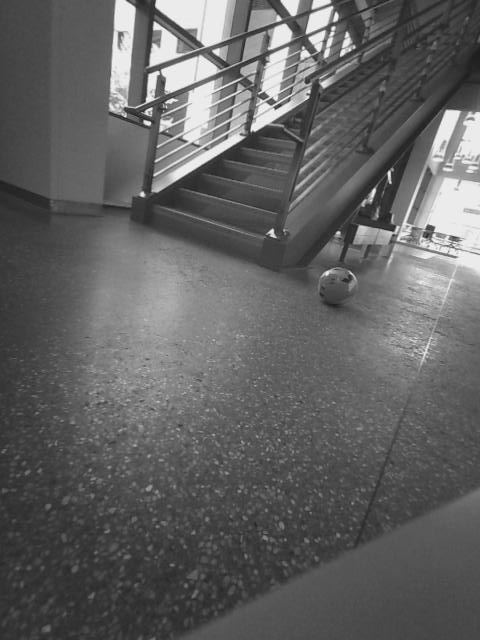ball: (316, 264, 361, 308)
